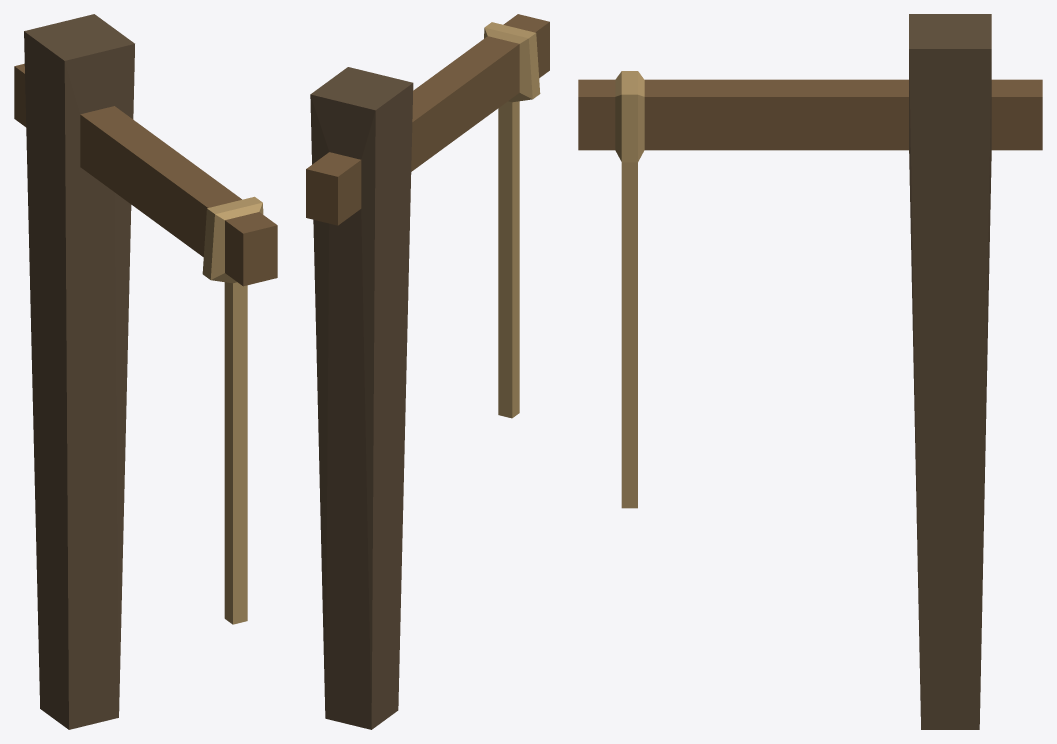
Rendered from AnchoredRope01.fbx.
3 views of the same model, side by side, from view 1: azimuth 30°, elevation 25°; view 2: azimuth 150°, elevation 25°; view 3: azimuth 270°, elevation 25° (orthographic). The views are drawn at different scales.
Parts seen in each view (by area): view 1: Anchor01, Rope01; view 2: Anchor01, Rope01; view 3: Anchor01, Rope01.
Part boxes in pixels (<box>): Anchor01: <box>14,14,277,729</box>; Rope01: <box>224,313,247,624</box>; Anchor01: <box>306,14,549,729</box>; Rope01: <box>498,130,519,418</box>; Anchor01: <box>578,14,1042,729</box>; Rope01: <box>621,198,637,508</box>.
Bounding box in the file's own units: 37.2 × 209 × 341.
